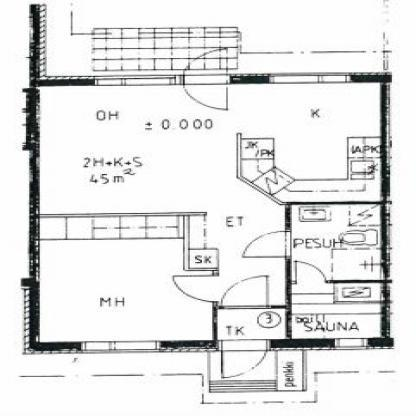door: (184, 47, 234, 115), (213, 339, 277, 380), (215, 274, 277, 312), (238, 229, 296, 264), (167, 271, 222, 306)
window: (79, 339, 172, 358), (265, 70, 358, 88), (89, 73, 180, 90), (332, 337, 375, 352)
